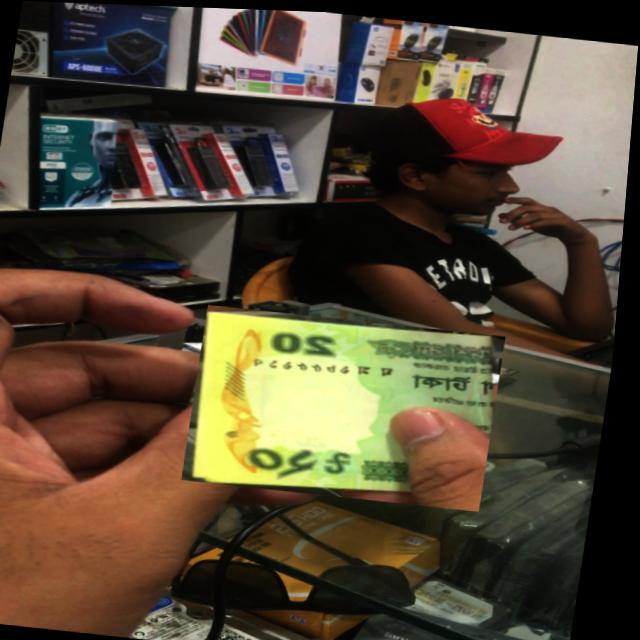Taka: (187, 302, 512, 507)
